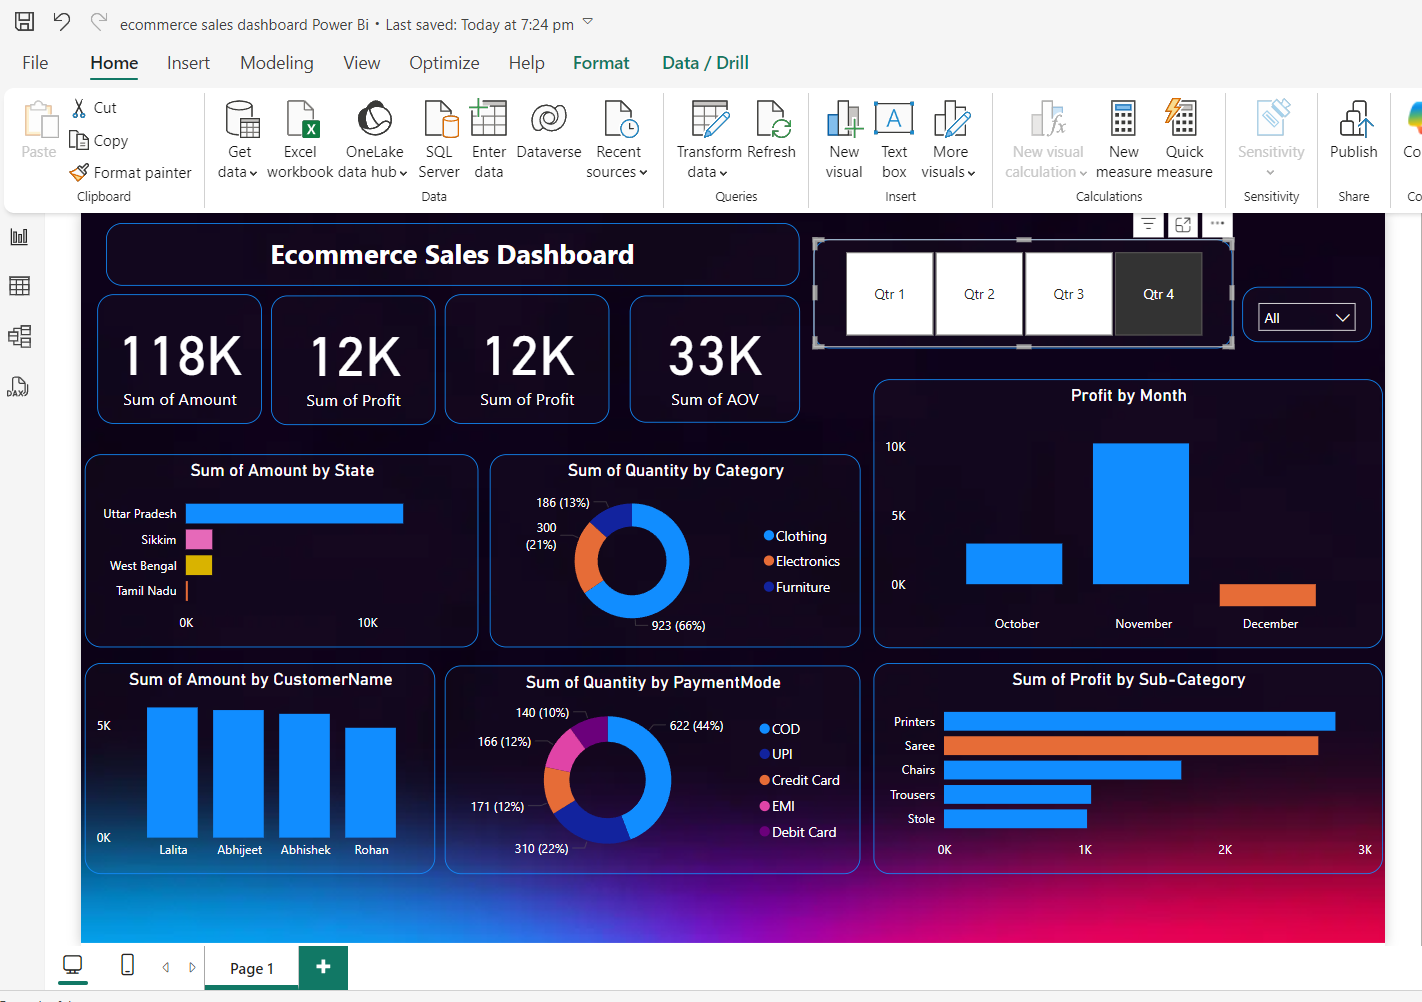

Layout of this report page (visuals, bound fields, positions):
{"tool":"powerbi","page":{"name":"Page 1","canvas":[1280,720],"ordinal":0},"visuals":[{"type":"textbox","box":[24.7,10.3,680.4,61.9],"z":0},{"type":"columnChart","title":"Profit by Month","fields":{"Category":["Orders.Order Date.Variation.Date Hierarchy.Month"],"Y":["Sum(Details.Profit)"]},"box":[778.4,162.9,500,263.9],"z":1000},{"type":"barChart","fields":{"Category":["Details.Sub-Category"],"Y":["Sum(Details.Profit)"]},"box":[777.3,442.3,500,207.2],"z":2000},{"type":"donutChart","fields":{"Category":["Details.Category"],"Y":["Sum(Details.Quantity)"]},"box":[401,237.1,363.9,189.7],"z":3000},{"type":"donutChart","fields":{"Y":["Sum(Details.Quantity)"],"Category":["Details.PaymentMode"]},"box":[356.7,444.3,408.2,205.2],"z":4000},{"type":"card","fields":{"Values":["Sum(Details.Amount)"]},"box":[16.5,79.4,161.9,126.8],"z":5000},{"type":"card","fields":{"Values":["Sum(Details.Profit)"]},"box":[186.6,80.4,161.9,126.8],"z":6000},{"type":"card","fields":{"Values":["Sum(Details.Profit)"]},"box":[356.7,79.4,161.9,126.8],"z":7000},{"type":"card","fields":{"Values":["Sum(Details.AOV)"]},"box":[538.1,81.4,167,124.7],"z":8000},{"type":"barChart","fields":{"Category":["Orders.State"],"Y":["Sum(Details.Amount)"]},"box":[4.1,237.1,386.6,189.7],"z":9000},{"type":"columnChart","fields":{"Category":["Orders.CustomerName"],"Y":["Sum(Details.Amount)"]},"box":[4.1,442.3,344.3,207.2],"z":10000},{"type":"slicer","fields":{"Values":["Orders.Order Date.Variation.Date Hierarchy.Quarter"]},"box":[719.6,25.8,411.3,107.2],"z":11000},{"type":"slicer","fields":{"Values":["Orders.State"]},"box":[1140.2,72.2,126.8,54.6],"z":12000}]}

Visuals, with their boxes on the page's 1280x720 design canvas (x1, y1, x2, y2). These are canvas units, not pixel positions in the 1422x1002 screenshot, which may show the page scaled, cropped or inside an application window:
textbox: (25,10,705,72)
"Profit by Month" columnChart: (778,163,1278,427)
barChart - Details.Sub-Category x Sum(Details.Profit): (777,442,1277,650)
donutChart - Details.Category x Sum(Details.Quantity): (401,237,765,427)
donutChart - Sum(Details.Quantity) x Details.PaymentMode: (357,444,765,650)
card - Sum(Details.Amount): (16,79,178,206)
card - Sum(Details.Profit): (187,80,348,207)
card - Sum(Details.Profit): (357,79,519,206)
card - Sum(Details.AOV): (538,81,705,206)
barChart - Orders.State x Sum(Details.Amount): (4,237,391,427)
columnChart - Orders.CustomerName x Sum(Details.Amount): (4,442,348,650)
slicer - Orders.Order Date.Variation.Date Hierarchy.Quarter: (720,26,1131,133)
slicer - Orders.State: (1140,72,1267,127)
